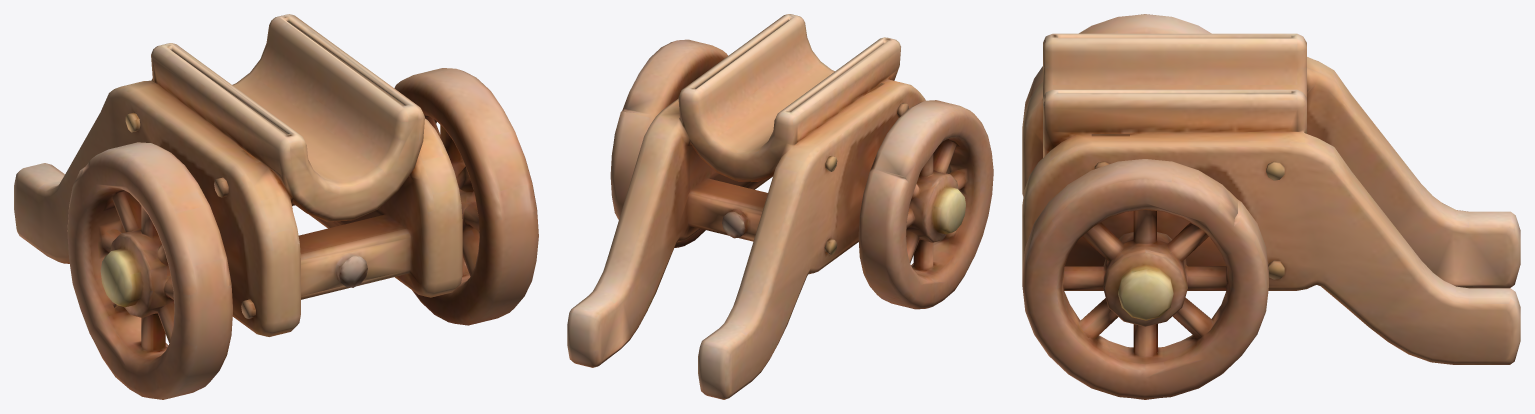
File: cannon-base.glb
3 renders of one model, left to right at view 1: azimuth 30°, elevation 25°; view 2: azimuth 150°, elevation 25°; view 3: azimuth 270°, elevation 25°, orthographic. The views are drawn at different scales.
Visible parts, largest first — view 1: tripo_node_2bd02592-2631-4d98-b7f2-e13bda58eaa4; view 2: tripo_node_2bd02592-2631-4d98-b7f2-e13bda58eaa4; view 3: tripo_node_2bd02592-2631-4d98-b7f2-e13bda58eaa4.
Part boxes in pixels (box(x1,y1,x2,y2)): tripo_node_2bd02592-2631-4d98-b7f2-e13bda58eaa4: box(14, 14, 538, 399); tripo_node_2bd02592-2631-4d98-b7f2-e13bda58eaa4: box(567, 14, 993, 399); tripo_node_2bd02592-2631-4d98-b7f2-e13bda58eaa4: box(1022, 14, 1520, 399).
Bounding box in the file's own units: 0.8525 × 0.5677 × 0.9968.
1 material, 1 textured.
